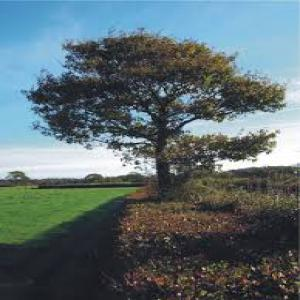Tree: (22, 29, 280, 198)
